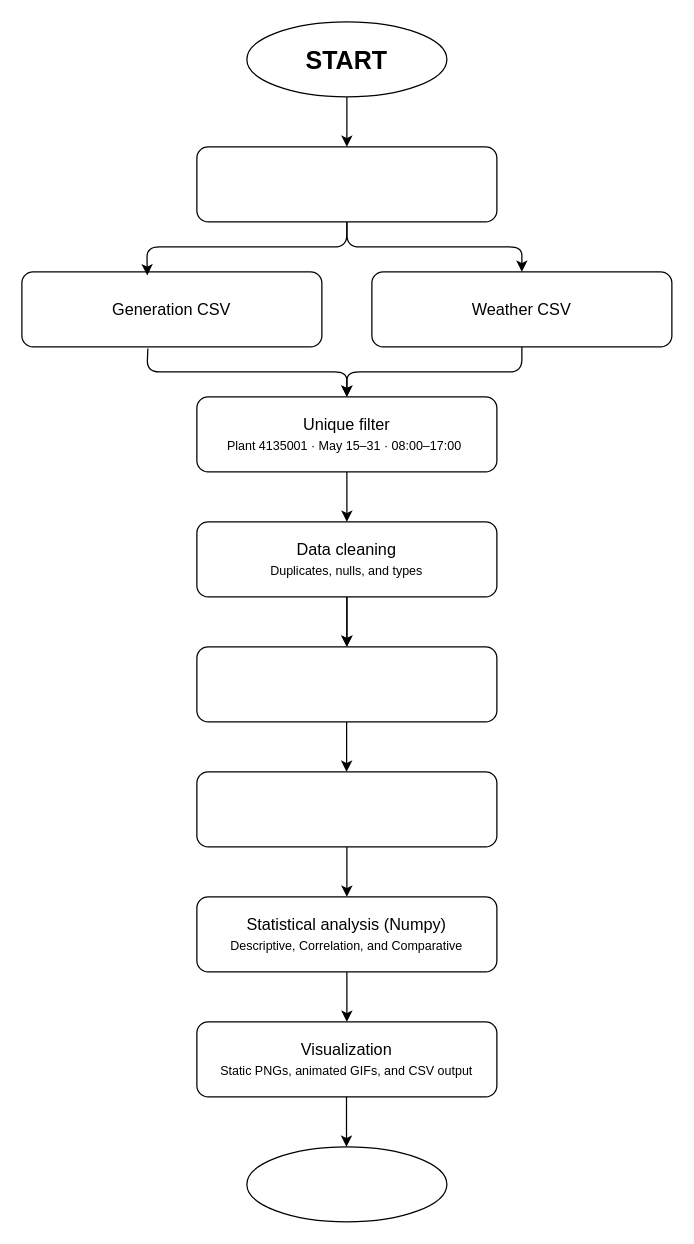
The diagram is 694 pixels wide and 1244 high, and some of its shapes have lost their labels. Each missing label, with the centre of its shape:
"Classification Irradiation threshold + Efficiency ratio" belongs at point (346, 809).
"Data Ingestion Load generation + Weather CSVs" belongs at point (346, 184).
"Data merging Aggregate > merge DATETIME + PLANT_ID" belongs at point (346, 684).
"END" belongs at point (346, 1184).
